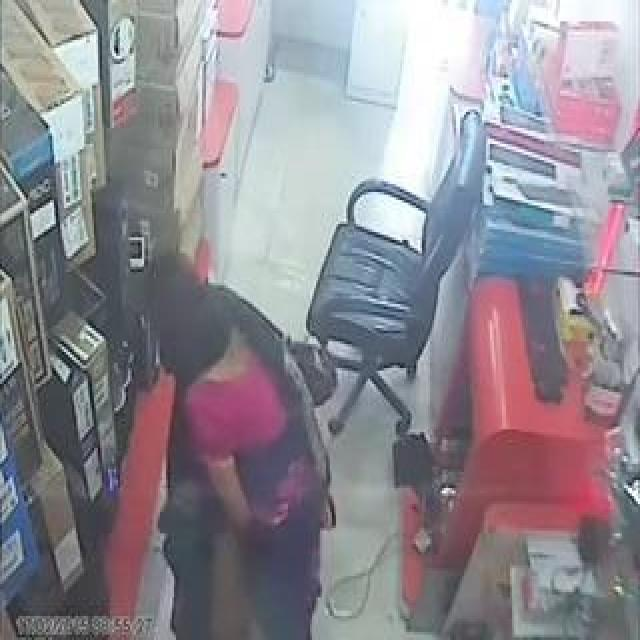Shoplifting: (104, 213, 361, 640)
